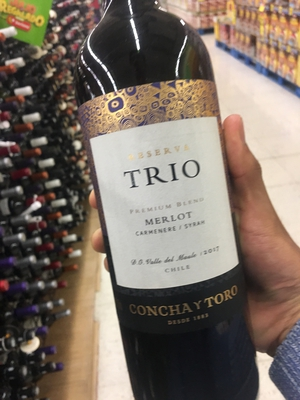trio merlot: (74, 10, 263, 385)
